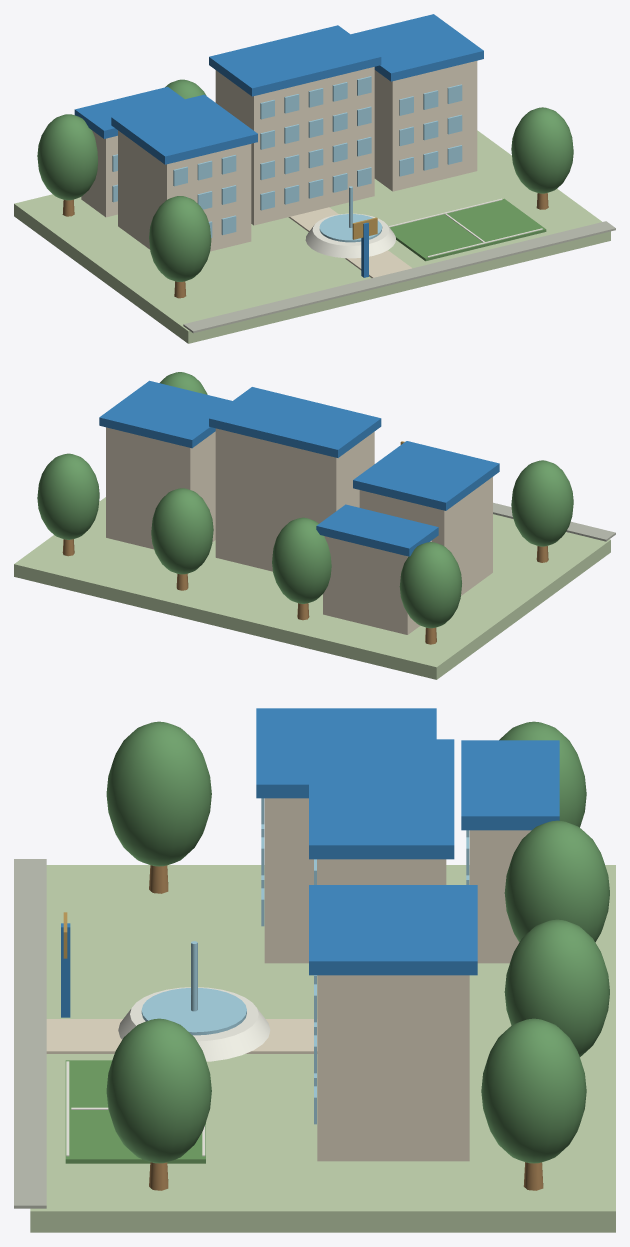
The model's file is campus.glb.
3 views of the same model, one above another, from view 1: azimuth 30°, elevation 25°; view 2: azimuth 150°, elevation 25°; view 3: azimuth 270°, elevation 25° (orthographic). The views are drawn at different scales.
Bounding box in the file's own units: 7 × 2.52 × 5.14.
